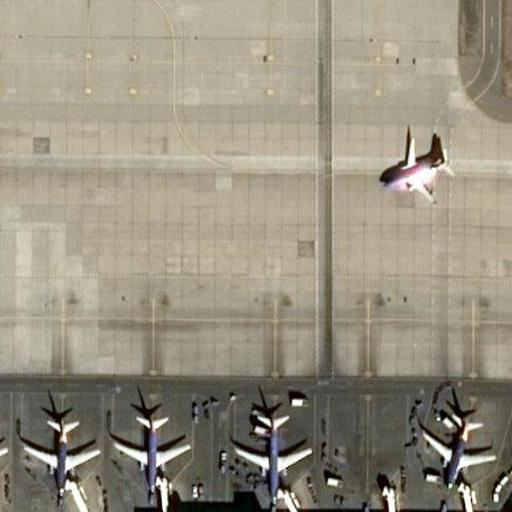Aircraft: (223, 402, 314, 500), (413, 399, 495, 493), (22, 403, 101, 500), (112, 402, 190, 495), (378, 125, 453, 202), (504, 412, 512, 499), (0, 403, 4, 498)
